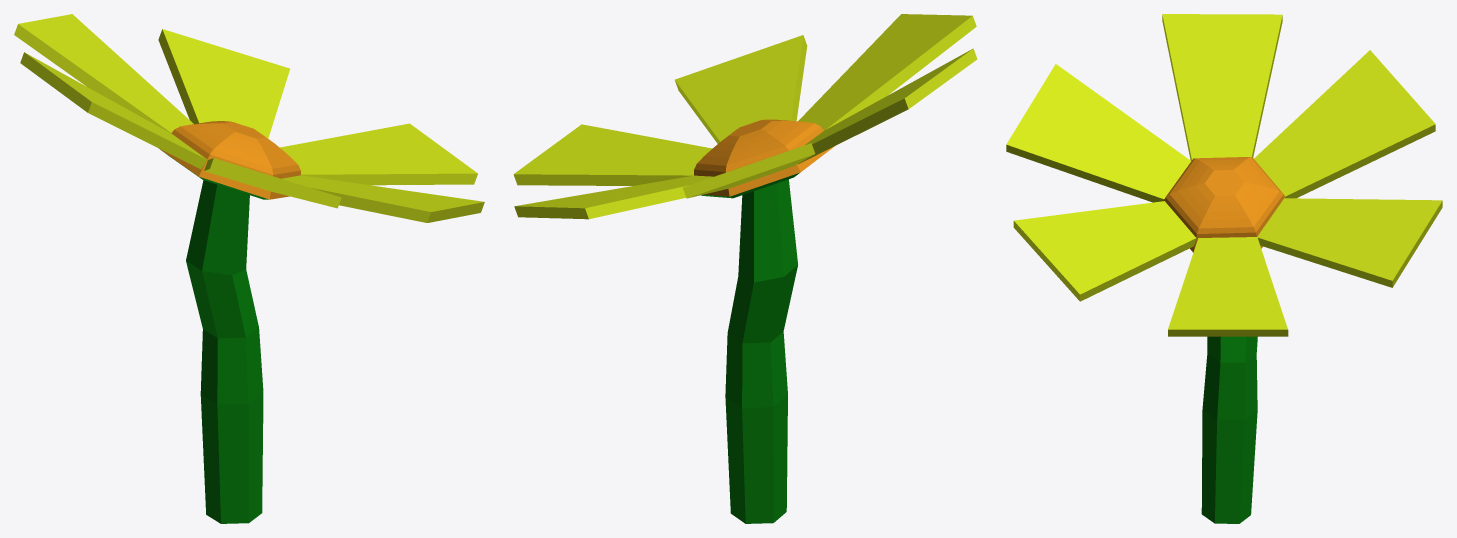
Rendered from Flower.fbx.
3 renders of one model, left to right at view 1: azimuth 30°, elevation 25°; view 2: azimuth 150°, elevation 25°; view 3: azimuth 270°, elevation 25°, orthographic. The views are drawn at different scales.
Visible parts, largest first — view 1: Circle.017, Cube.036, Cube.031, Cube.035, Cube.032, Cube.034, Cube.033; view 2: Circle.017, Cube.032, Cube.031, Cube.033, Cube.036, Cube.034, Cube.035; view 3: Circle.017, Cube.034, Cube.035, Cube.033, Cube.036, Cube.032, Cube.031.
Boxes of the visible parts, <box> form: Circle.017: <box>159,121,300,523</box>; Cube.036: <box>158,29,289,138</box>; Cube.031: <box>280,123,477,185</box>; Cube.035: <box>14,14,193,132</box>; Cube.032: <box>281,175,484,222</box>; Cube.034: <box>20,52,207,169</box>; Cube.033: <box>204,158,341,208</box>; Circle.017: <box>694,119,834,523</box>; Cube.032: <box>675,35,807,143</box>; Cube.031: <box>513,124,712,185</box>; Cube.033: <box>798,14,976,130</box>; Cube.036: <box>514,175,713,219</box>; Cube.034: <box>798,48,977,163</box>; Cube.035: <box>683,143,815,198</box>; Circle.017: <box>1163,157,1285,523</box>; Cube.034: <box>1162,14,1282,160</box>; Cube.035: <box>1254,50,1435,198</box>; Cube.033: <box>1006,64,1191,202</box>; Cube.036: <box>1257,198,1442,287</box>; Cube.032: <box>1013,201,1196,301</box>; Cube.031: <box>1168,237,1288,336</box>.
Size of the model in its own units: 0.7481 by 0.8172 by 0.8777.
